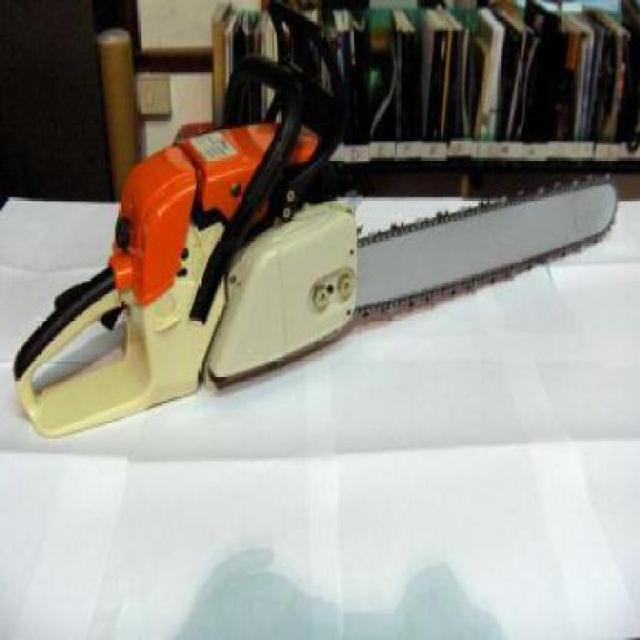Chainsaw: (20, 2, 618, 430)
